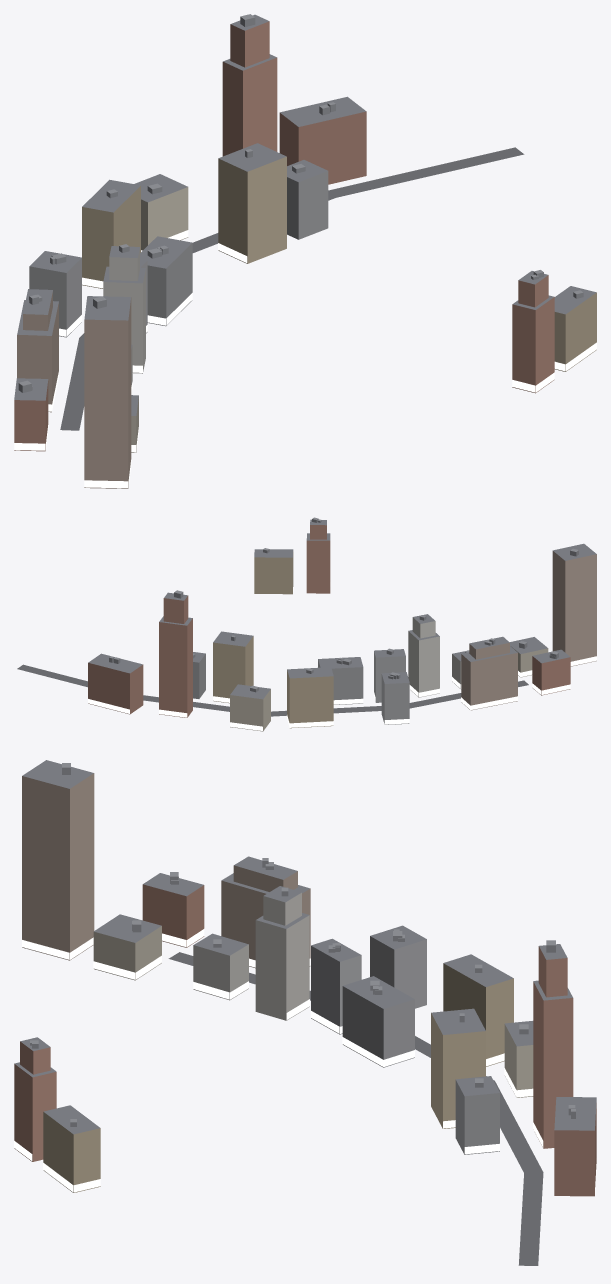
The picture shows the model from 3 angles, top to bottom: view 1: azimuth 30°, elevation 25°; view 2: azimuth 150°, elevation 25°; view 3: azimuth 270°, elevation 25°; orthographic projection. The views are drawn at different scales.
Bounding box in the file's own units: 336 × 87.55 × 239.
